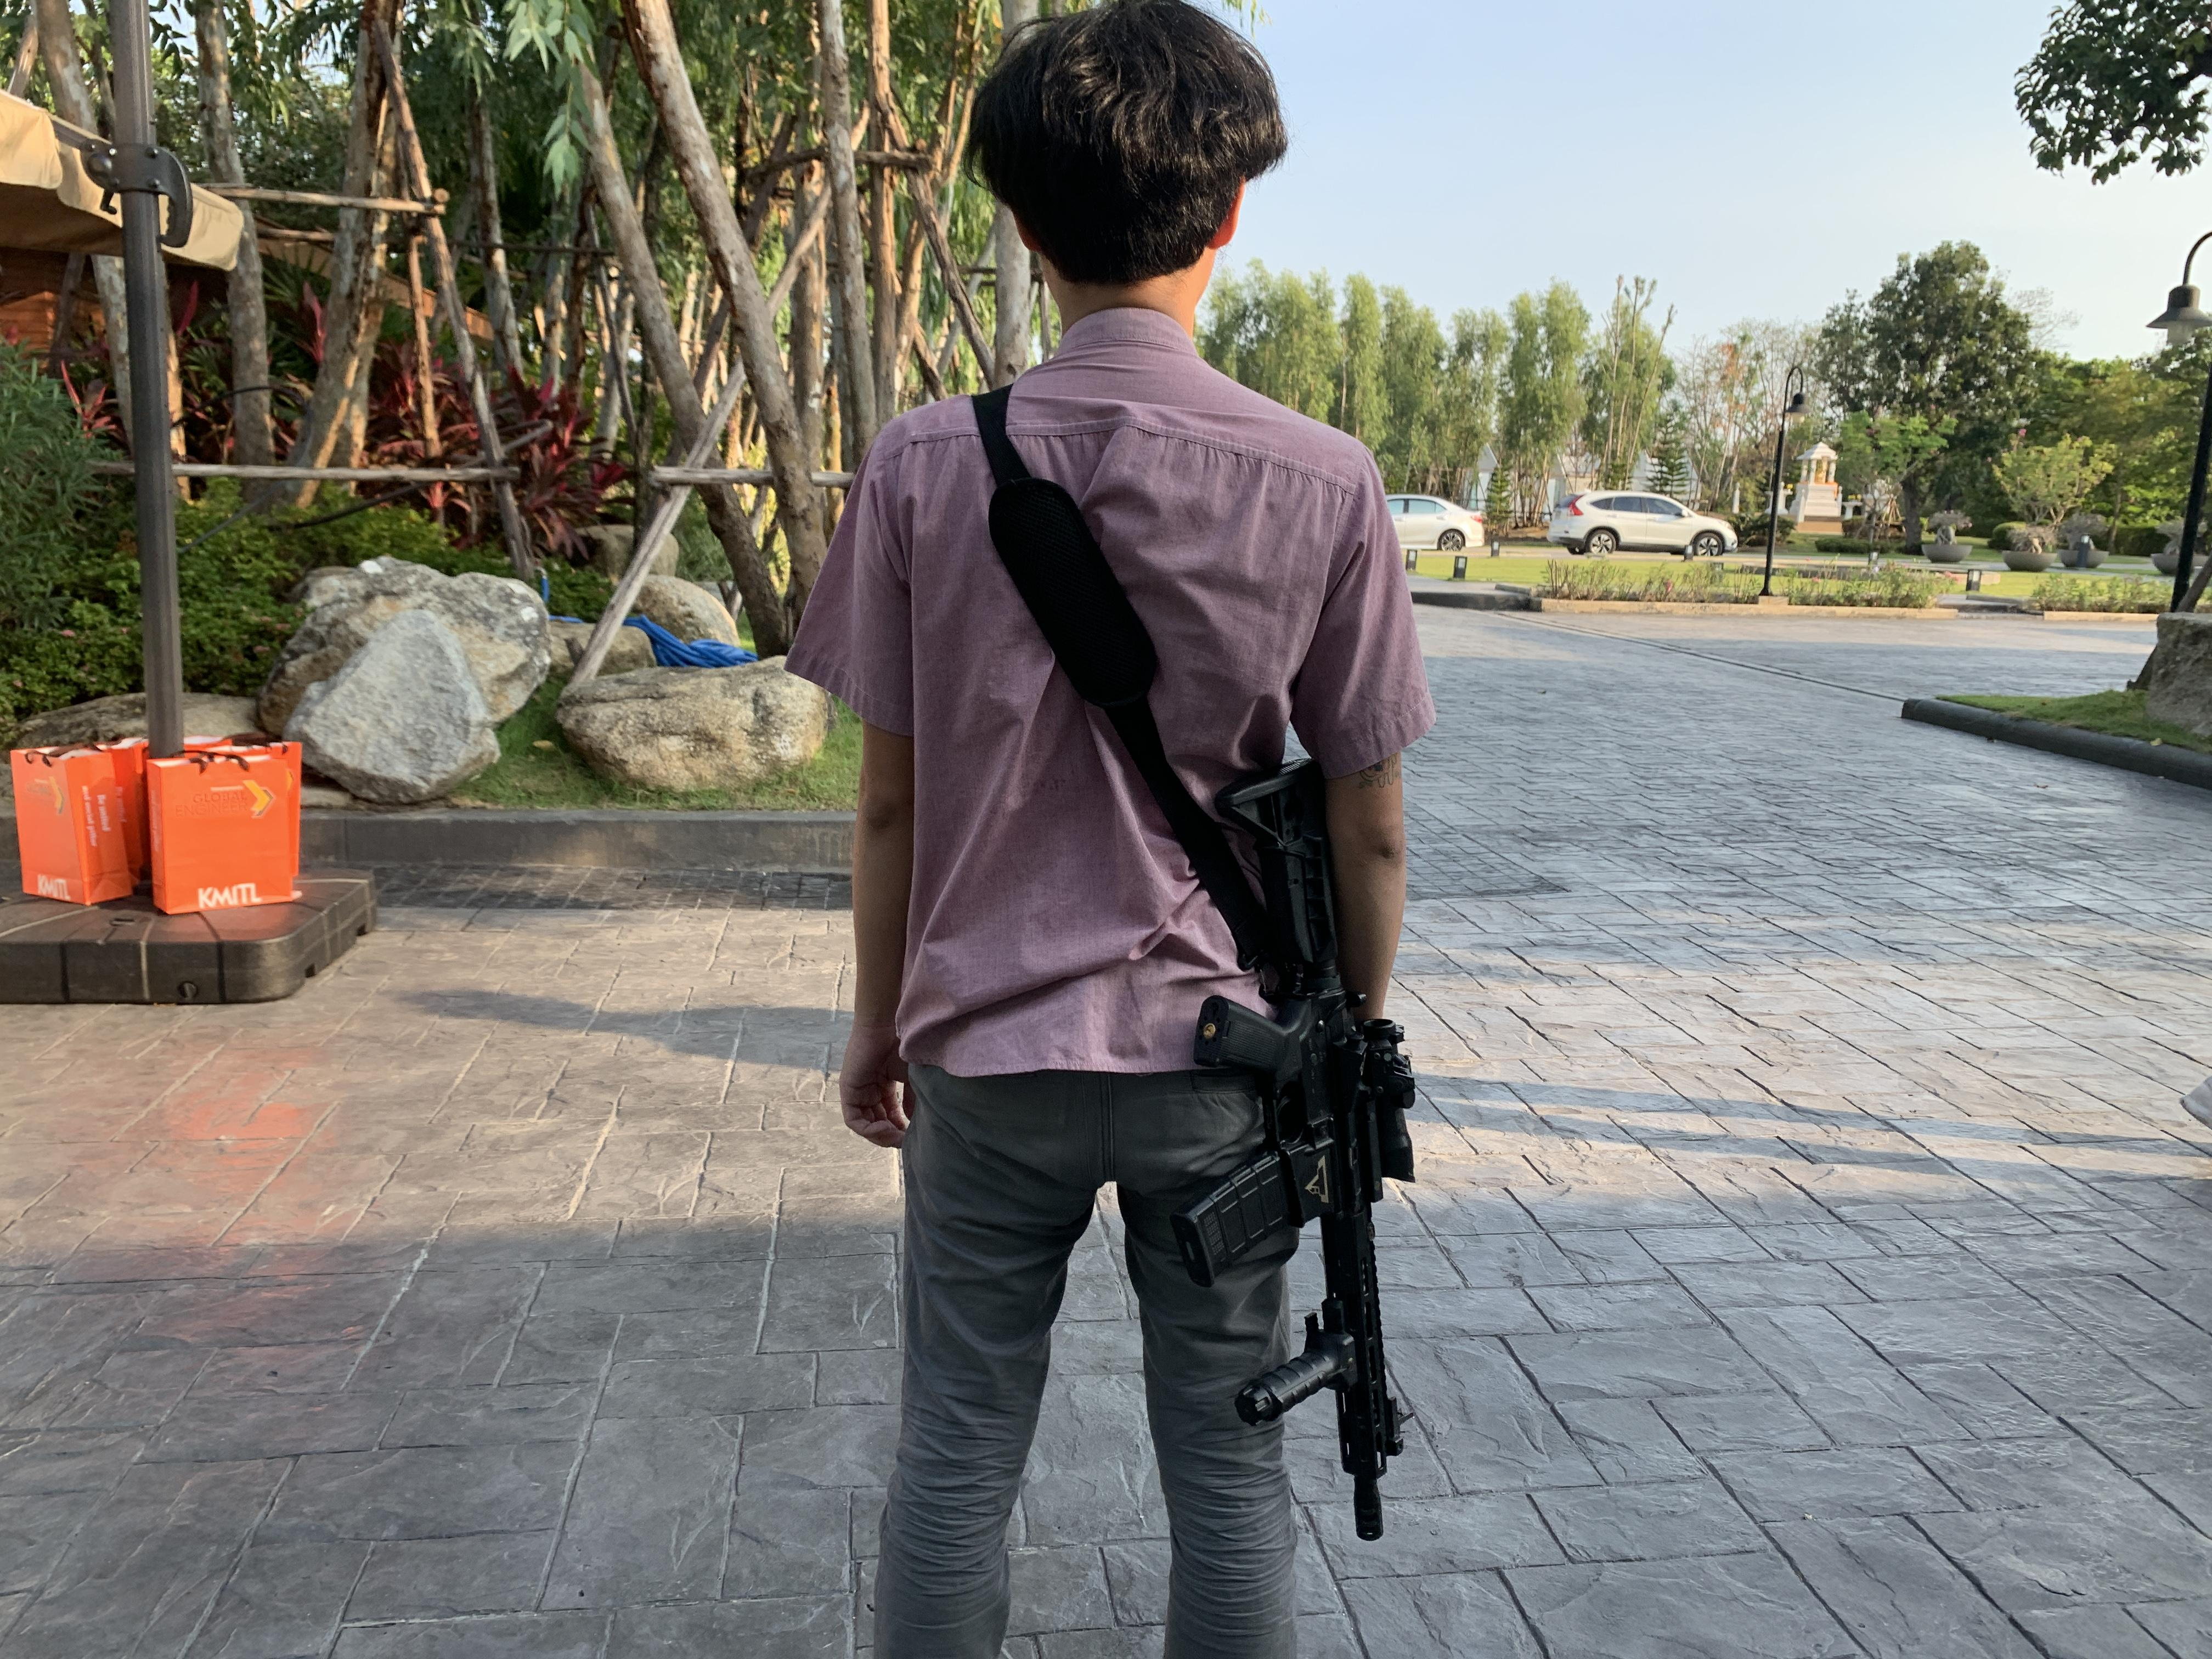criminal: (787, 0, 1440, 1659)
weapon: (1176, 763, 1421, 1542)
